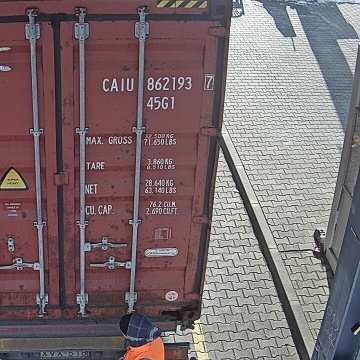serial_id: (102, 75, 213, 91)
